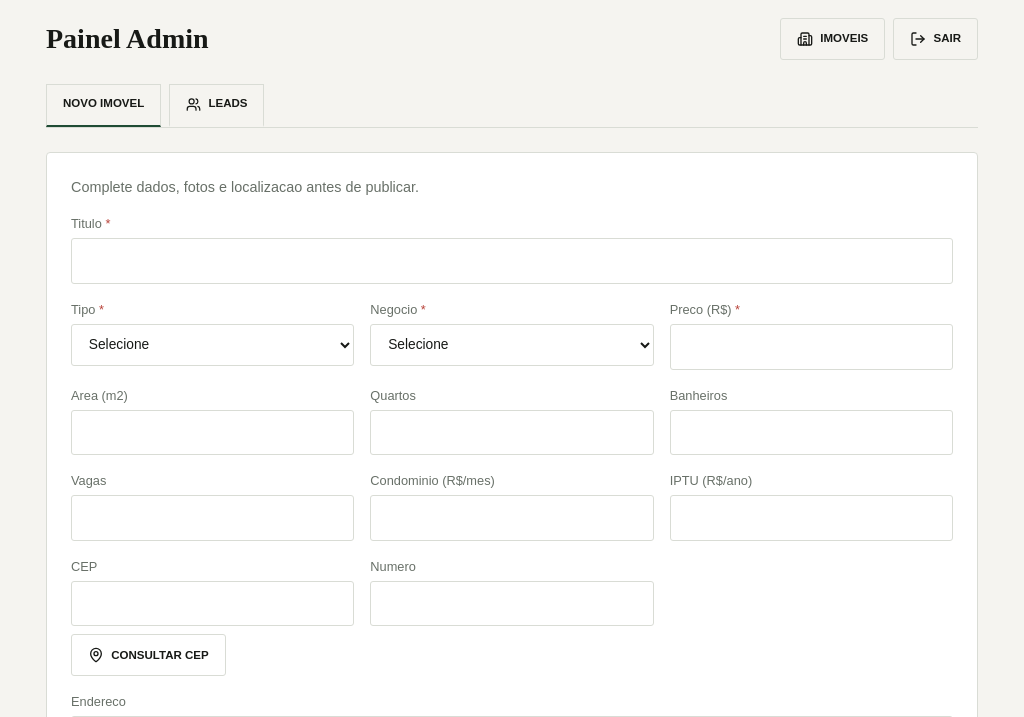
Scenario: AdminPage › consulta CEP e preenche endereco e coordenadas
In the field labelled "CEP": (213, 604) [71,581,354,626], type "01001000"
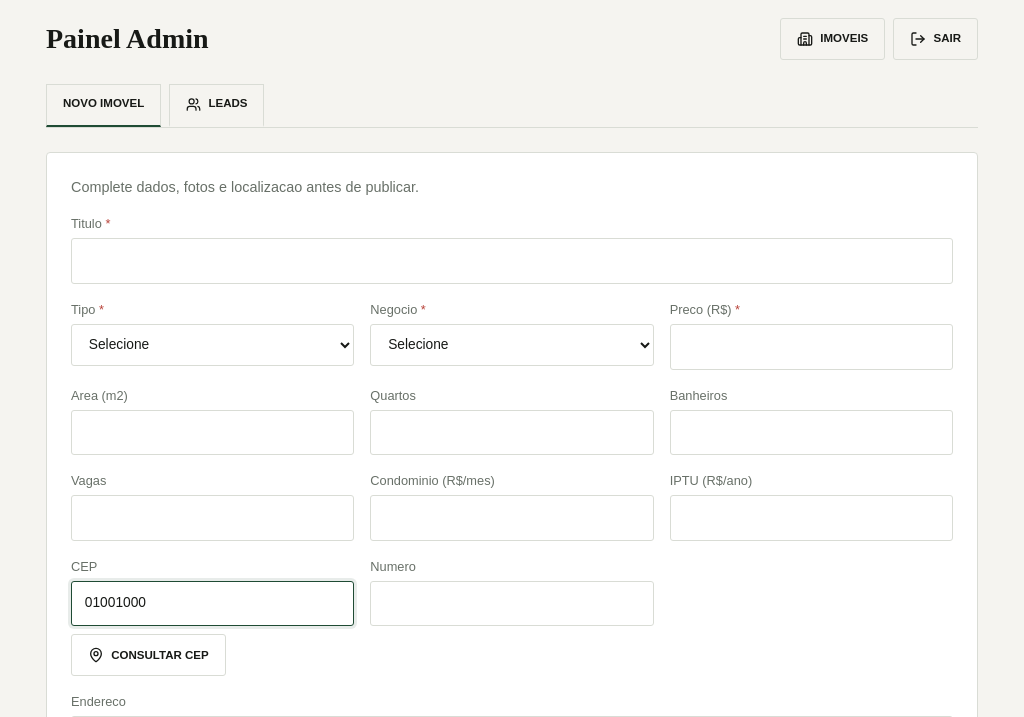
Click the button "Consultar CEP": (148, 656) [71,634,226,676]
(page scrolled)
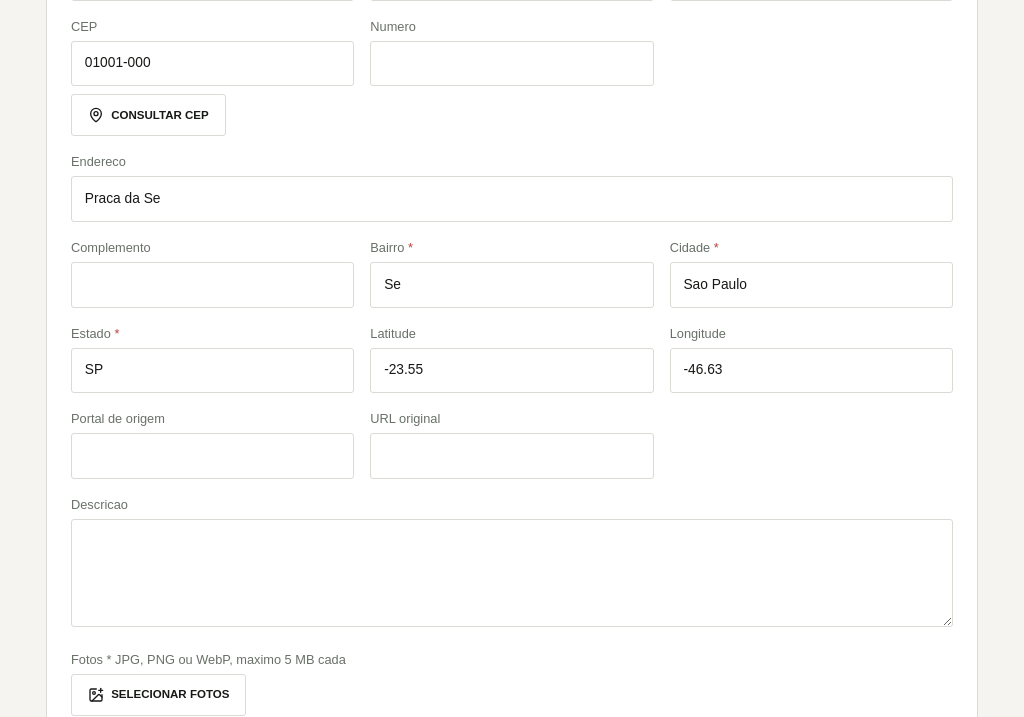
Result: the field labelled "Endereco" holds "Praca da Se" at [71,176,953,222]
Result: the number field labelled "Latitude" holds "-23.55" at [370,348,654,393]
